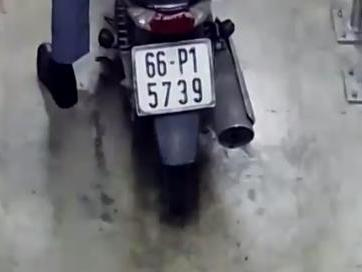num_plate: (129, 40, 216, 117)
